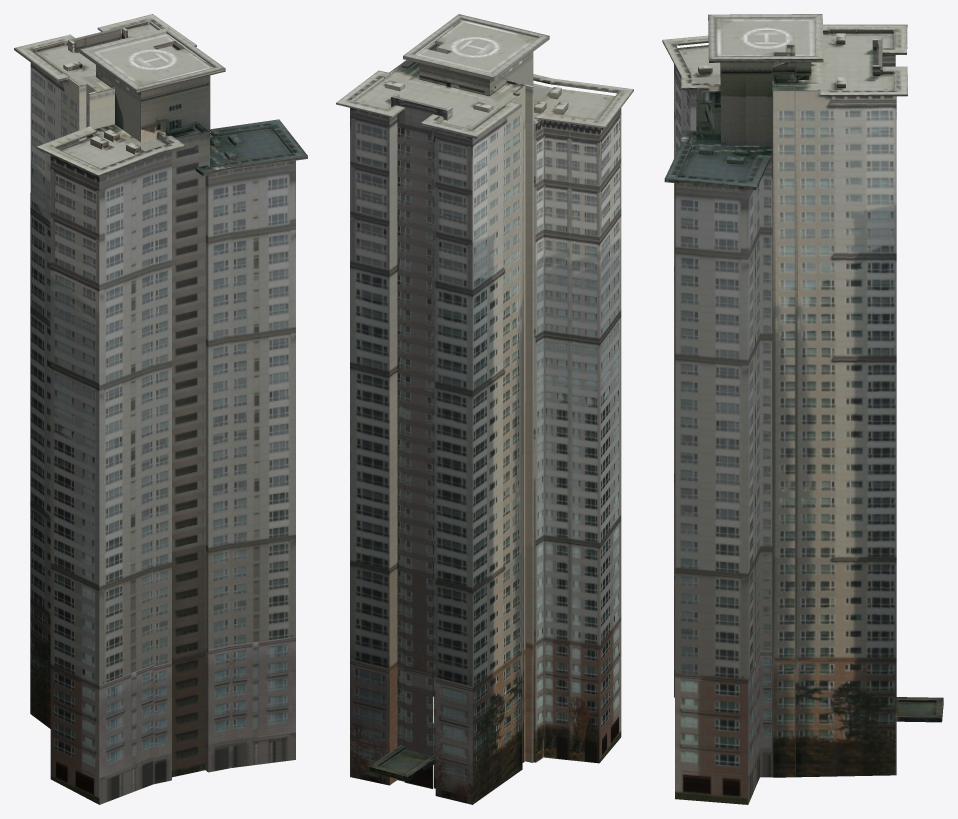
The picture shows the model from 3 angles, left to right: view 1: azimuth 30°, elevation 25°; view 2: azimuth 150°, elevation 25°; view 3: azimuth 270°, elevation 25°; orthographic projection. The views are drawn at different scales.
Visible parts, largest first — view 1: MainBuilding; view 2: MainBuilding; view 3: MainBuilding.
Boxes of the visible parts, box(x1,y1,x2,y2) form: MainBuilding: box(14, 14, 307, 804); MainBuilding: box(336, 14, 633, 804); MainBuilding: box(662, 14, 943, 804).
Size of the model in its own units: 0.4901 by 1.33 by 0.4768.
1 material, 1 textured.
